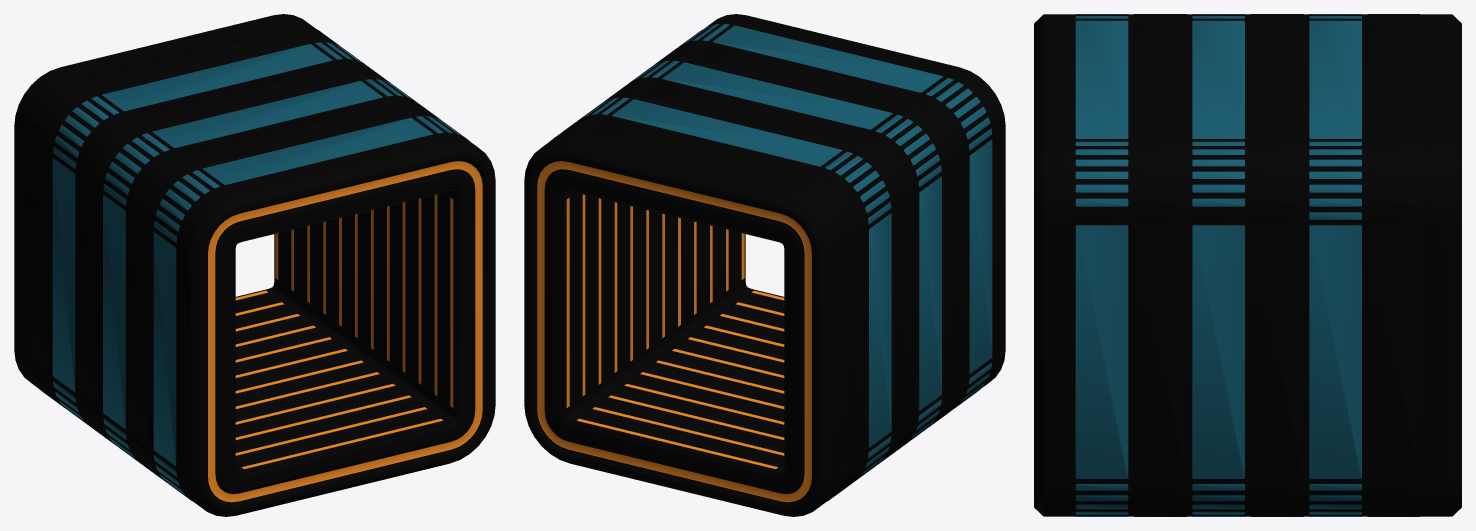
File: corridor_03052022_2151.fbx
3 views of the same model, side by side, from view 1: azimuth 30°, elevation 25°; view 2: azimuth 150°, elevation 25°; view 3: azimuth 270°, elevation 25° (orthographic). The views are drawn at different scales.
Parts seen in each view (by area): view 1: corridor_03052022_2151; view 2: corridor_03052022_2151; view 3: corridor_03052022_2151.
Part boxes in pixels (box(x1,y1,x2,y2)): corridor_03052022_2151: box(14, 14, 495, 516); corridor_03052022_2151: box(524, 14, 1005, 516); corridor_03052022_2151: box(1034, 14, 1461, 516).
Bounding box in the file's own units: 201 × 201 × 209.
